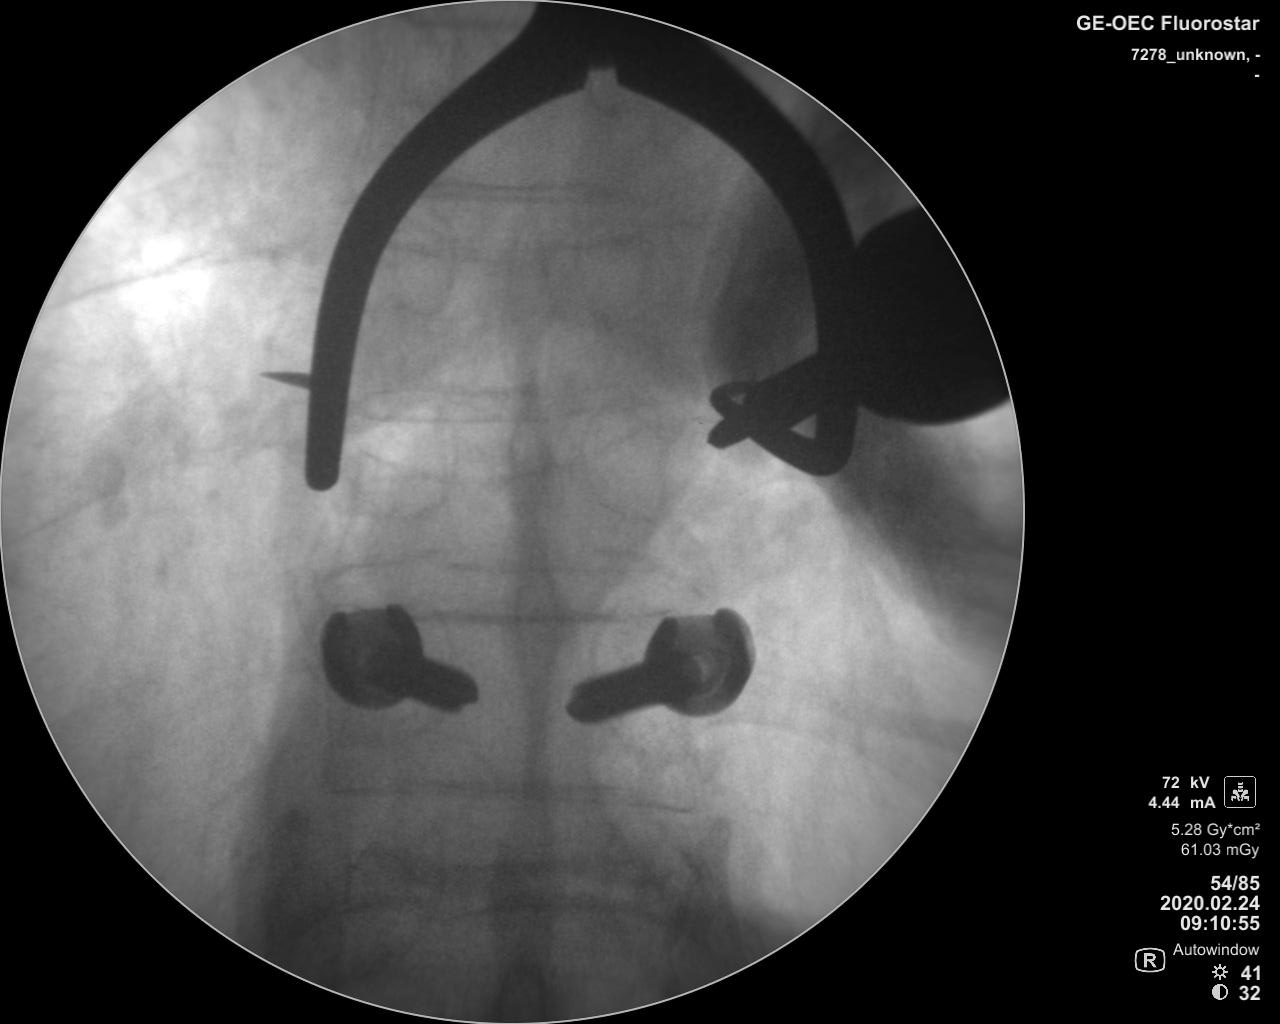eyes: (347, 391, 458, 528), (582, 404, 670, 521), (574, 222, 651, 321), (391, 213, 457, 321)
line: (366, 376, 639, 419), (342, 776, 676, 810), (435, 172, 639, 208), (416, 601, 658, 630)
nose: (490, 758, 561, 950), (501, 203, 552, 366), (501, 390, 549, 552), (509, 561, 560, 702)
